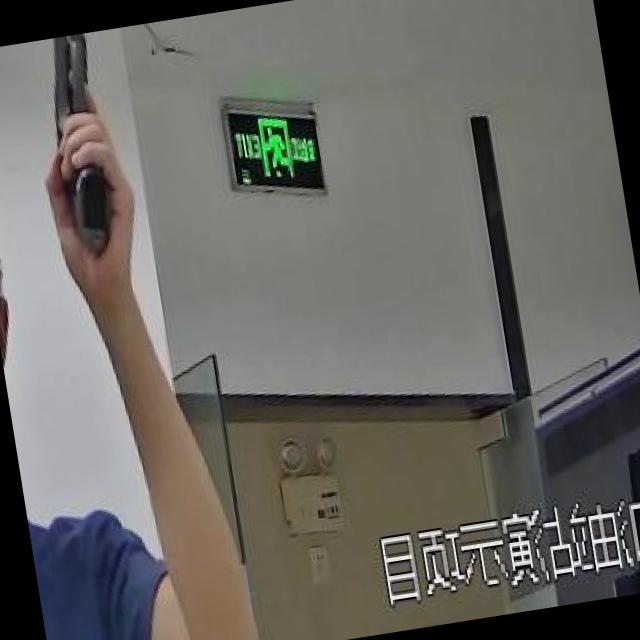Guns: (0, 26, 169, 291)
